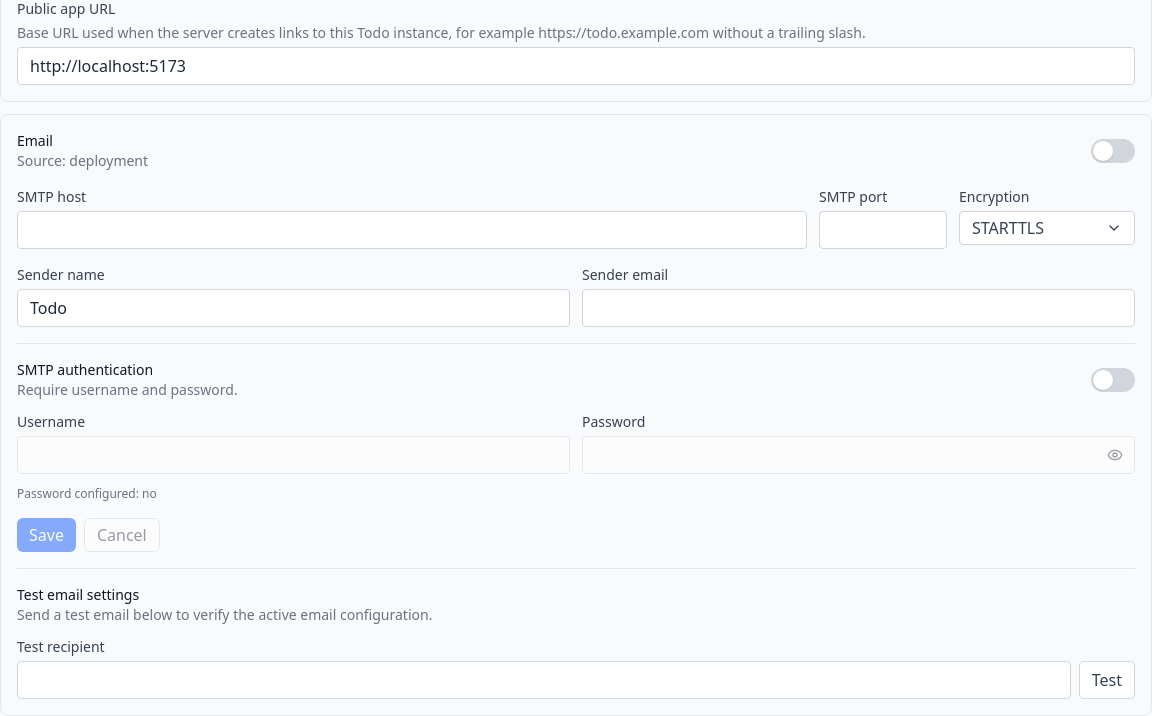
Test: admin page › shows safe test email diagnostic details and hints
The width and height of the screenshot is (1152, 716).
(page scrolled)
Type "recipient@example.com" into the field labelled "Test recipient" at (544,680), box [17,661,1071,699]
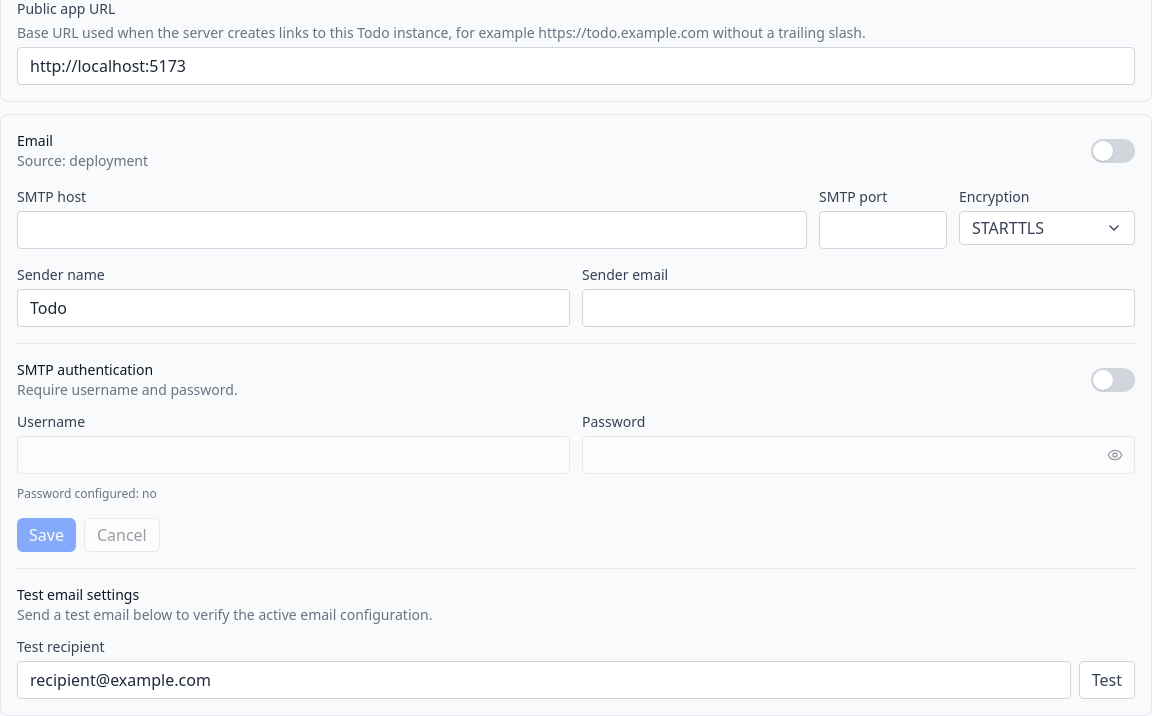
Click the button "Test" at (1107,680), box [1079,661,1135,699]
(page scrolled)
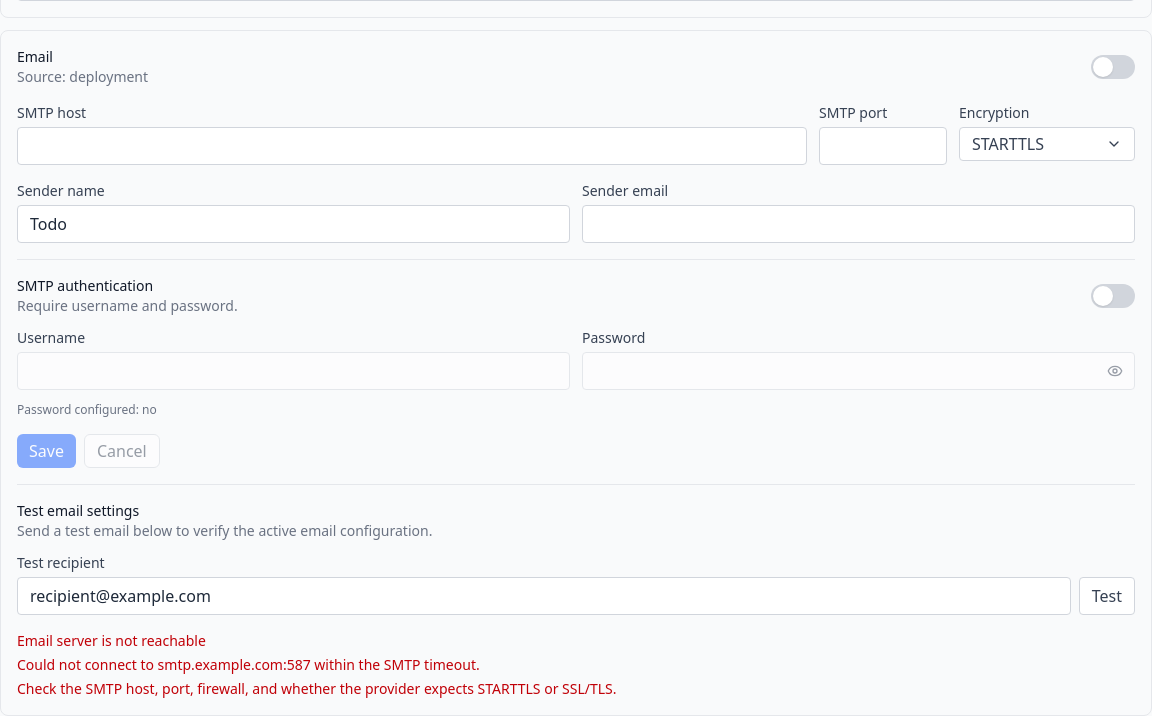
Result: the text "Email server is not reachable" is shown at [17,631,206,650]
Result: the text "Could not connect to smtp.example.com:587 within the SMTP timeout." is shown at [17,655,480,674]
Result: the text "Check the SMTP host, port, firewall, and whether the provider expects STARTTLS or SSL/TLS." is shown at [17,679,617,698]
